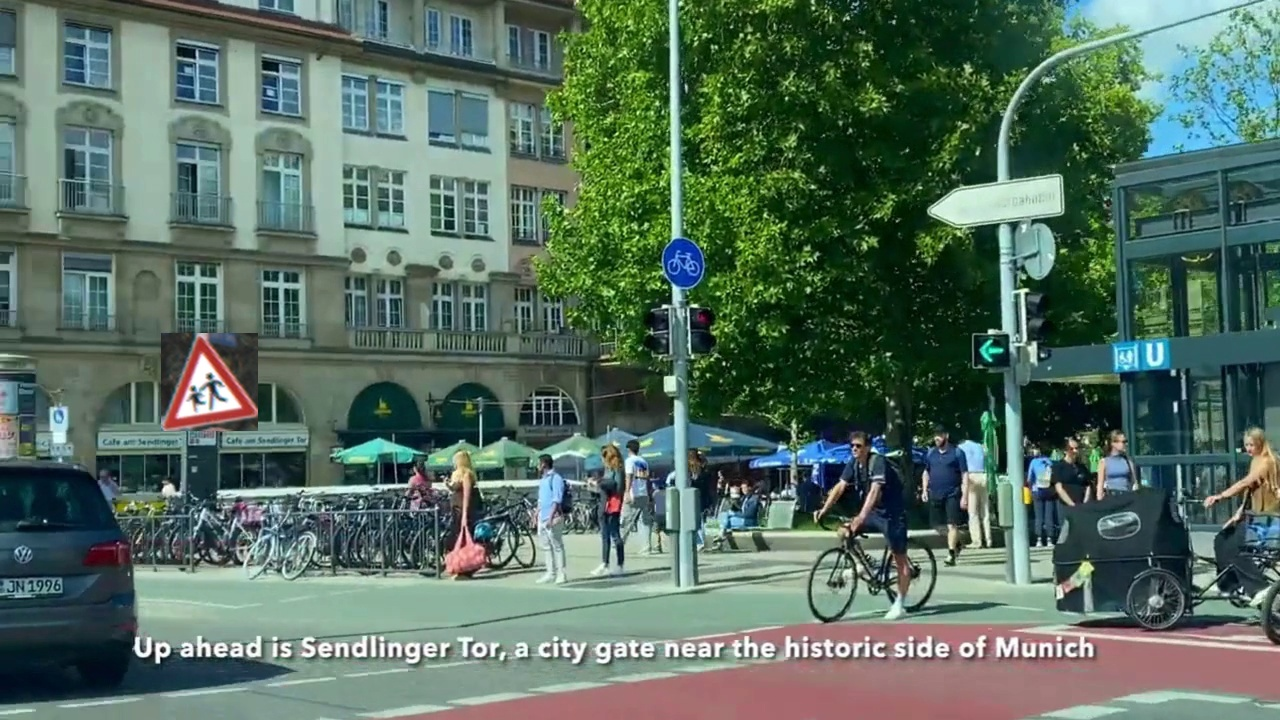Children: (161, 333, 258, 431)
